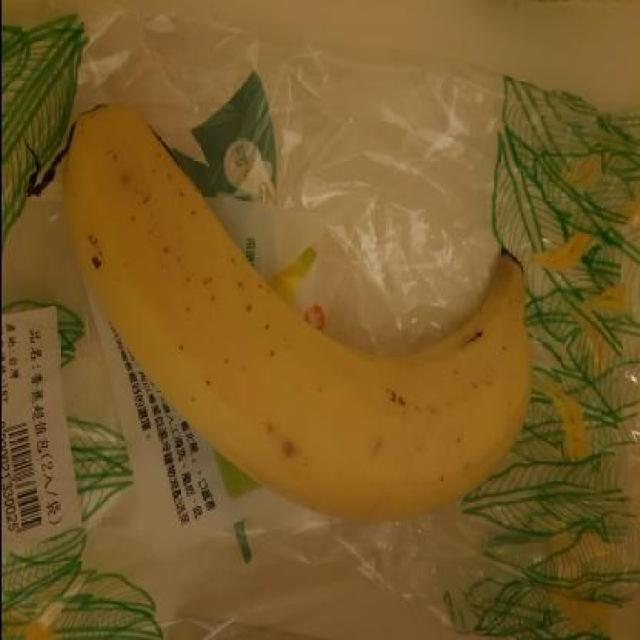banana: (52, 88, 543, 530)
